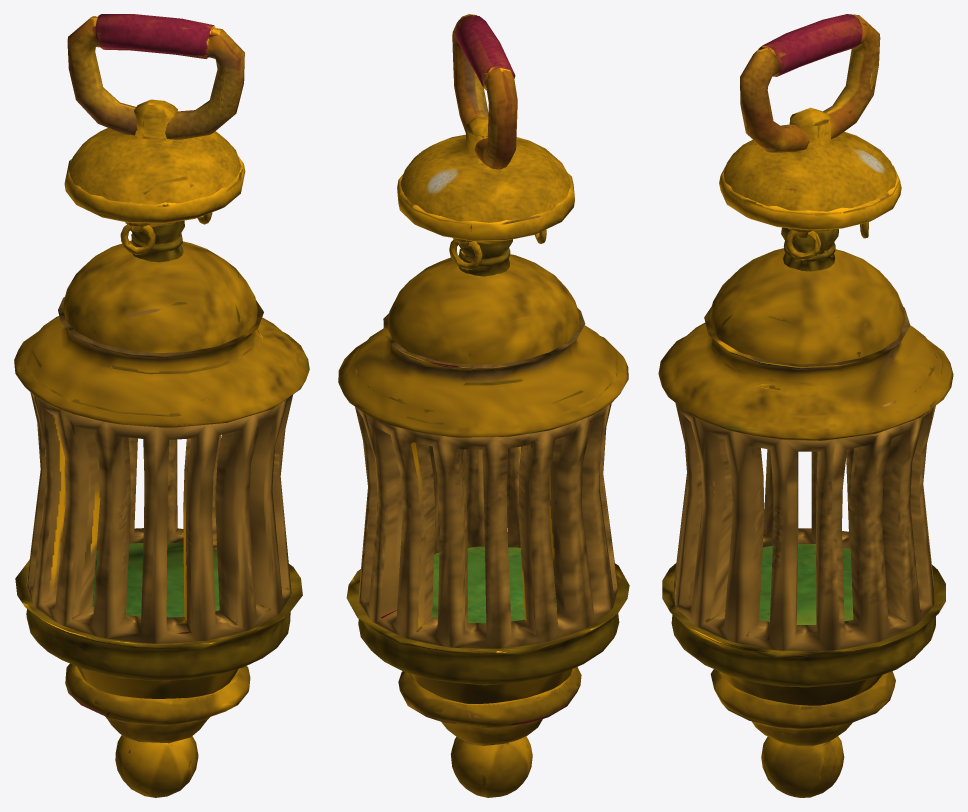
Rendered from Laparina.fbx.
3 views of the same model, side by side, from view 1: azimuth 30°, elevation 25°; view 2: azimuth 150°, elevation 25°; view 3: azimuth 270°, elevation 25° (orthographic).
Parts seen in each view (by area): view 1: Lanparina; view 2: Lanparina; view 3: Lanparina.
Part boxes in pixels (<box>): Lanparina: <box>14,14,309,797</box>; Lanparina: <box>338,14,629,797</box>; Lanparina: <box>658,14,953,797</box>.
Bounding box in the file's own units: 32.88 × 94.71 × 32.94.
